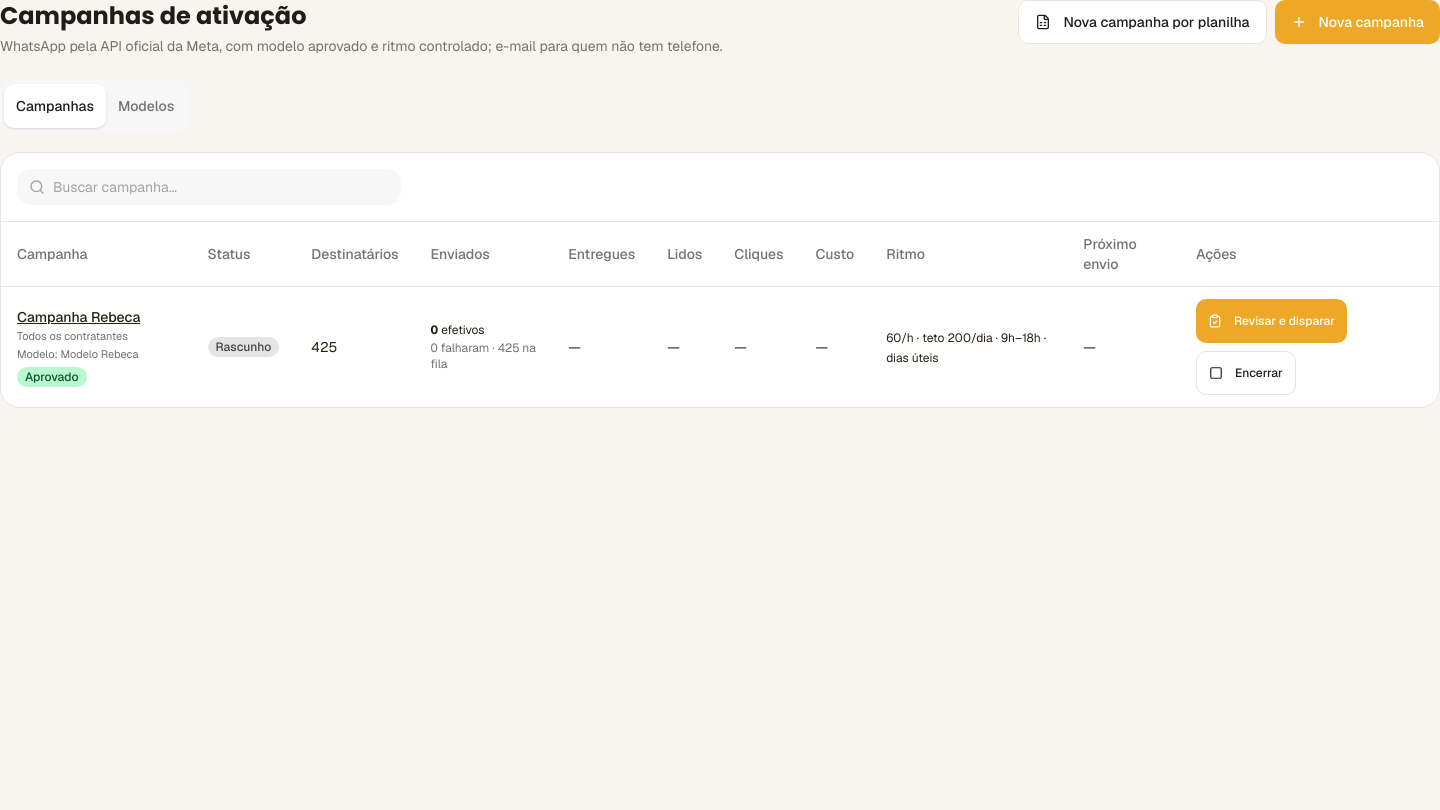
Test case: CampanhasPage › abas Campanhas e Modelos; DevZapp sumiu da tela e da nova campanha
Expected: the button "Campanha Rebeca" is shown, top-left (17, 307), bottom-right (176, 327)
Click the button "Nova campanha" at (1357, 22), box top-left (1274, 0), bottom-right (1439, 44)
(page scrolled)
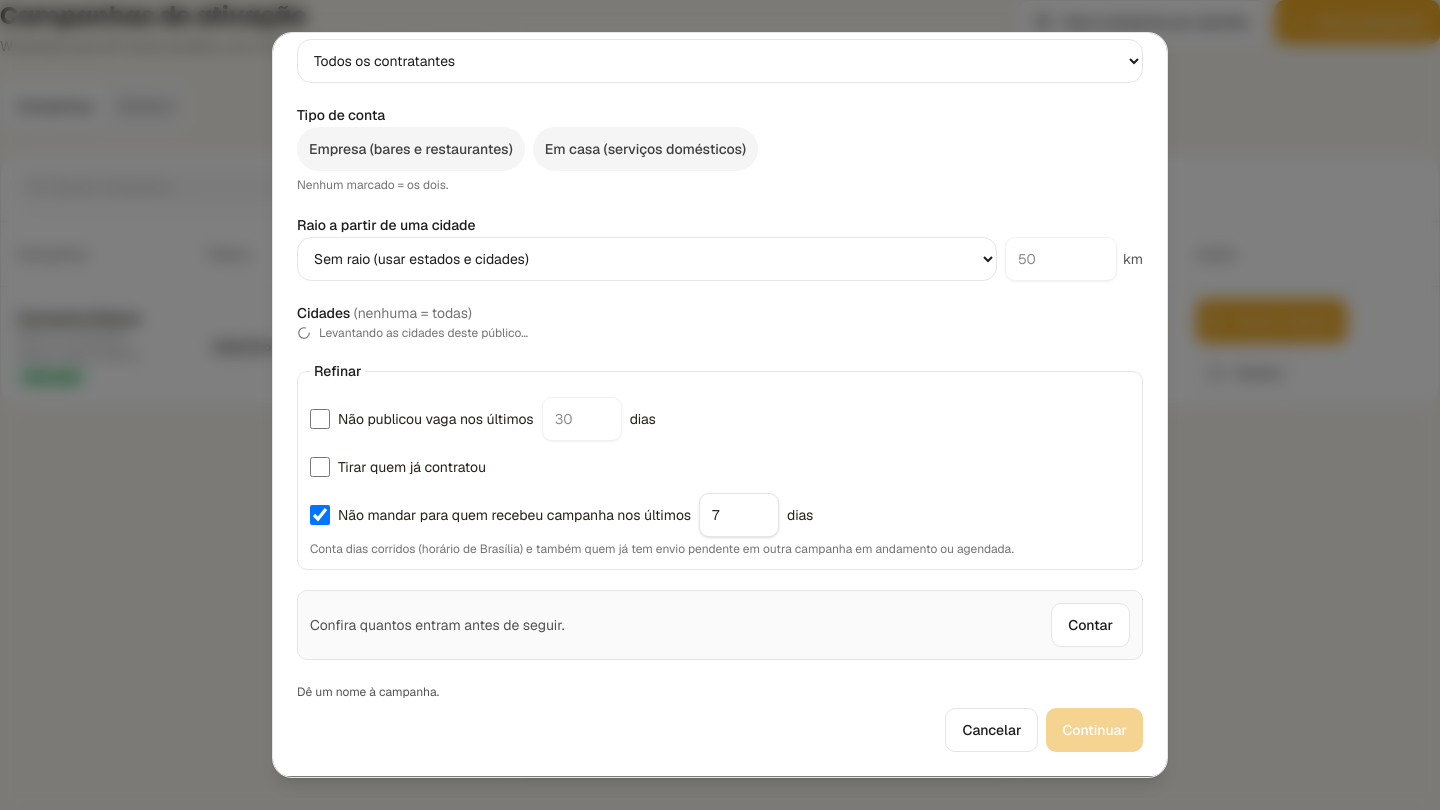
Click the button "Cancelar" at (992, 730), box top-left (946, 708), bottom-right (1038, 752)
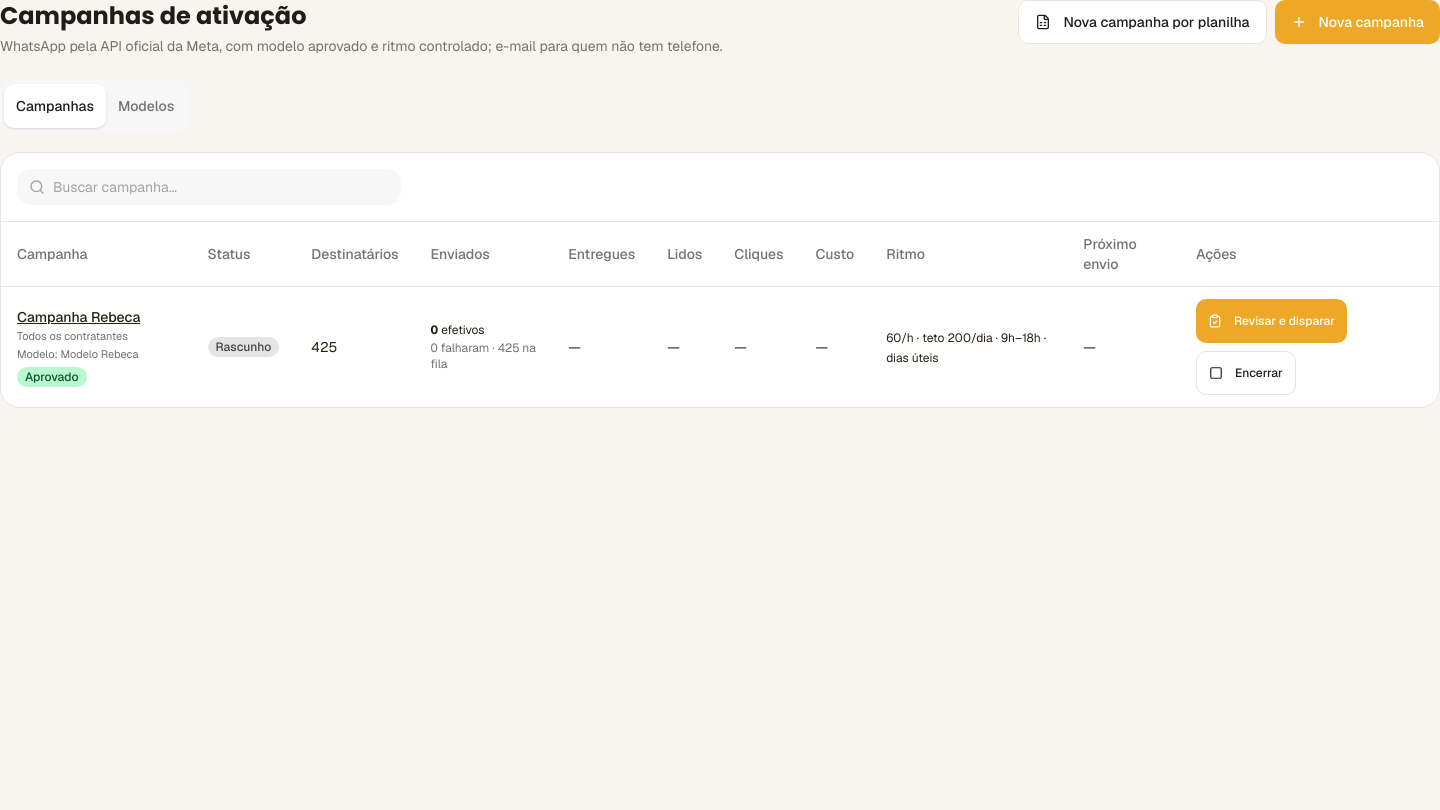
Click the button "Modelos" at (146, 106), box top-left (106, 84), bottom-right (186, 128)
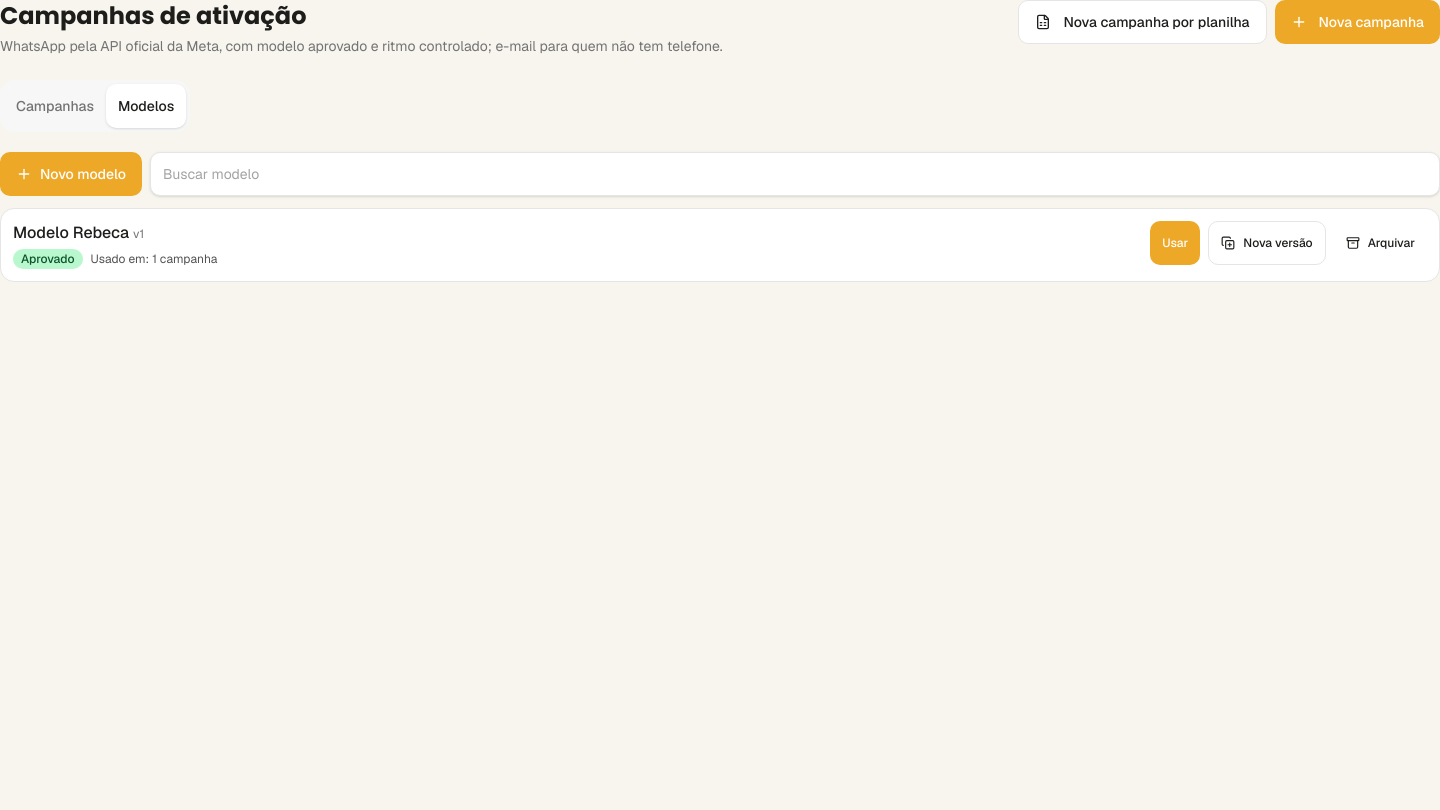
Now the button "Novo modelo" is shown, box top-left (0, 152), bottom-right (142, 196)
